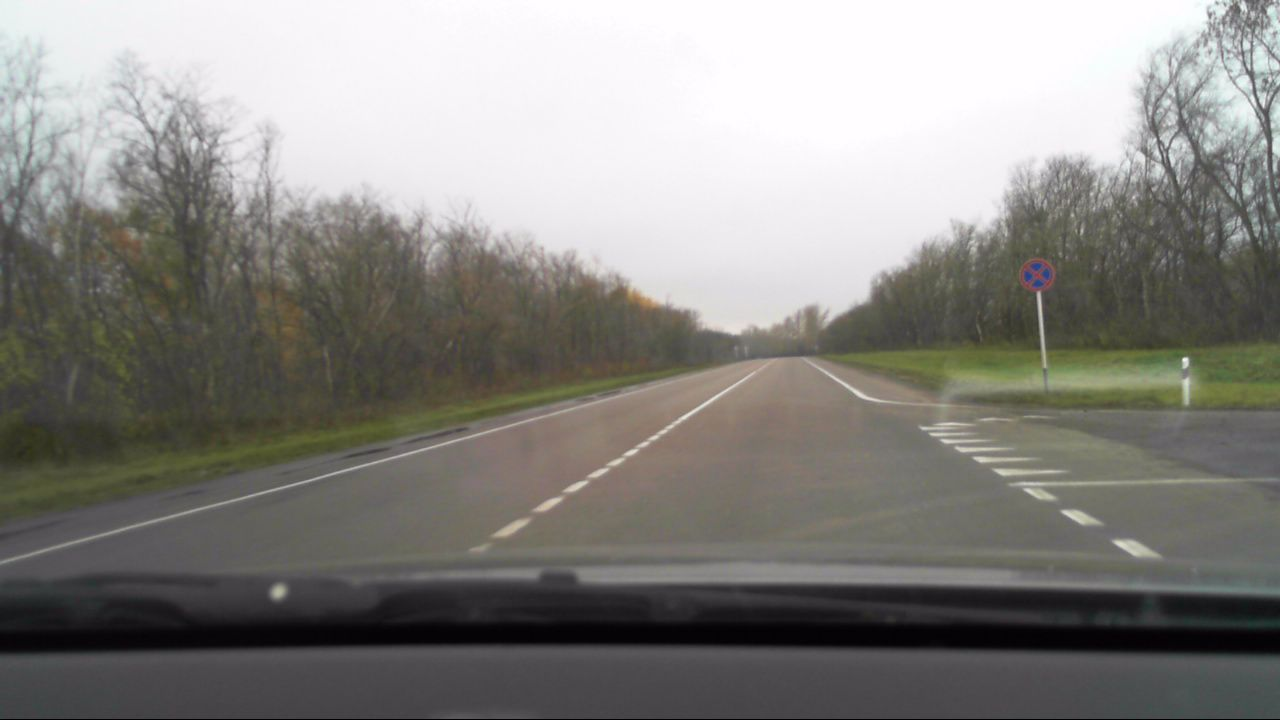No Parking: (1019, 258, 1055, 290)
